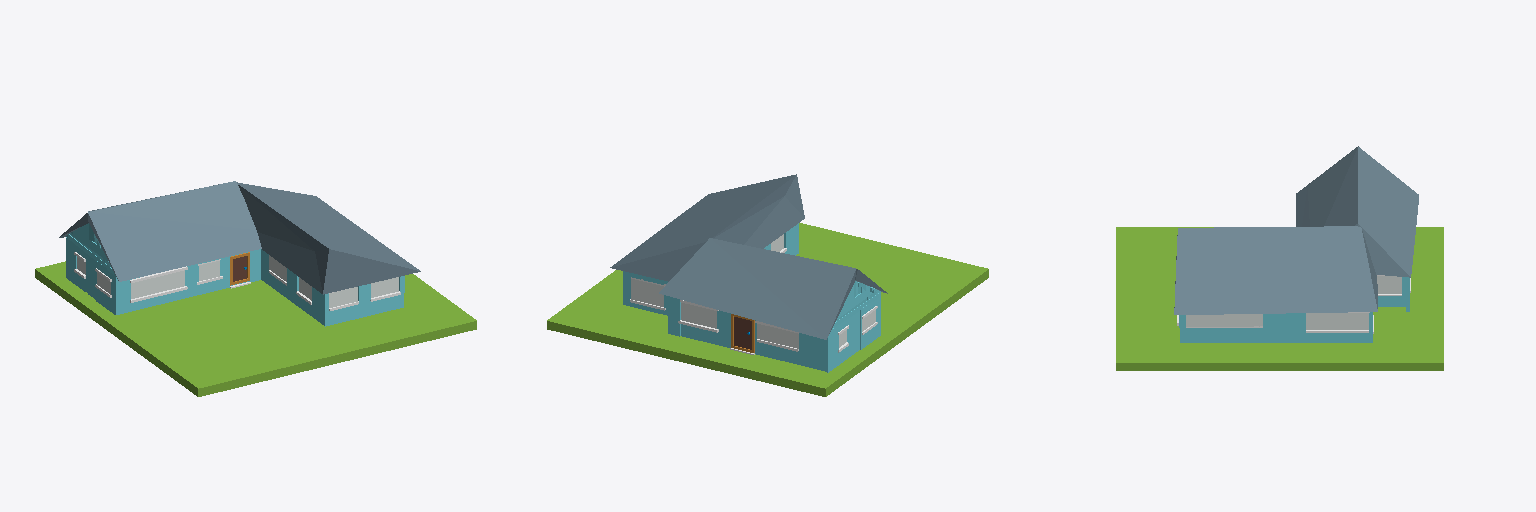
3 renders of one model, left to right at view 1: azimuth 30°, elevation 25°; view 2: azimuth 150°, elevation 25°; view 3: azimuth 270°, elevation 25°, orthographic.
Parts seen in each view (by area): view 1: group[number redacted], group[number redacted], group[number redacted], group[number redacted], group[number redacted], group[number redacted], group[number redacted], group[number redacted]; view 2: group[number redacted], group[number redacted], group[number redacted], group[number redacted], group[number redacted], group[number redacted], group[number redacted], group[number redacted]; view 3: group[number redacted], group[number redacted], group[number redacted], group[number redacted], group[number redacted], group[number redacted], group[number redacted], group[number redacted], group[number redacted].
Part boxes in pixels (x1,y1,x2,y2): group[number redacted]: (35, 261, 476, 396); group[number redacted]: (88, 181, 261, 281); group[number redacted]: (237, 182, 420, 294); group[number redacted]: (324, 295, 403, 326); group[number redacted]: (131, 270, 184, 298); group[number redacted]: (269, 273, 323, 324); group[number redacted]: (114, 290, 185, 314); group[number redacted]: (230, 252, 249, 285); group[number redacted]: (547, 223, 988, 396); group[number redacted]: (659, 238, 855, 339); group[number redacted]: (610, 174, 804, 281); group[number redacted]: (799, 333, 824, 370); group[number redacted]: (631, 279, 663, 306); group[number redacted]: (757, 324, 798, 348); group[number redacted]: (681, 303, 716, 328); group[number redacted]: (755, 340, 798, 364); group[number redacted]: (1116, 227, 1443, 370); group[number redacted]: (1174, 226, 1377, 314); group[number redacted]: (1358, 147, 1418, 277); group[number redacted]: (1296, 146, 1358, 226); group[number redacted]: (1186, 328, 1281, 339); group[number redacted]: (1306, 313, 1368, 329); group[number redacted]: (1186, 314, 1262, 326); group[number redacted]: (1281, 333, 1372, 342); group[number redacted]: (1263, 313, 1305, 334).
Size of the model in its own units: 2.37 by 0.7703 by 2.41.